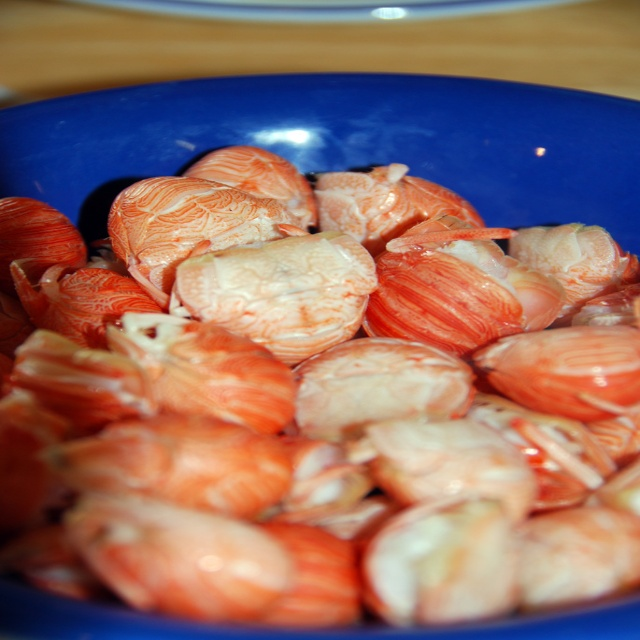Shrimp: (0, 147, 640, 629)
